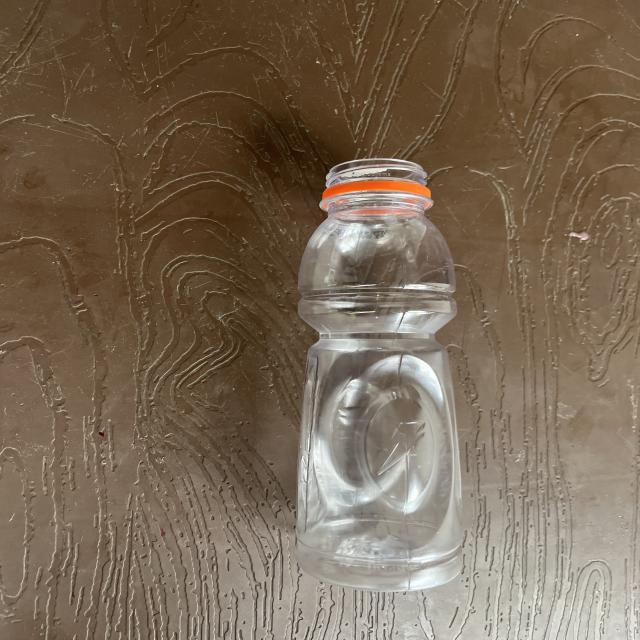PET_With_Cap: (280, 156, 472, 600)
